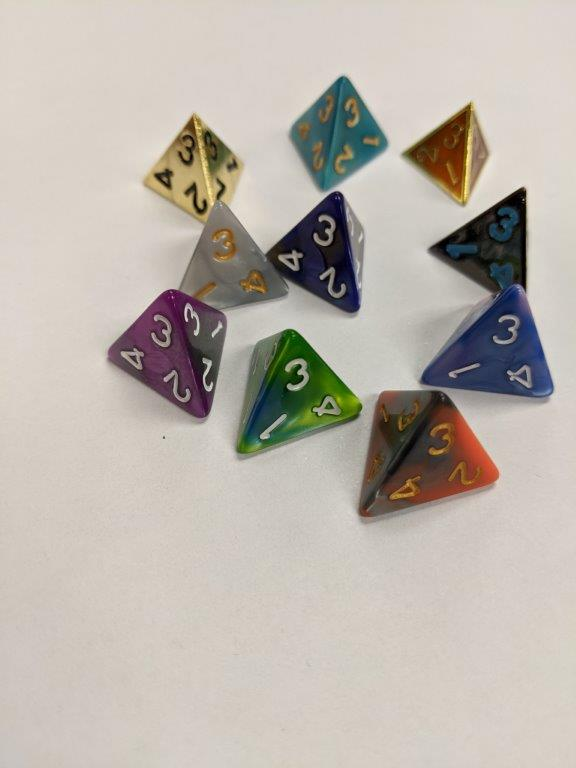d4-3: (357, 382, 495, 523), (414, 283, 557, 405), (229, 330, 364, 455), (105, 286, 228, 421), (265, 189, 372, 319), (179, 200, 288, 312), (427, 181, 533, 295), (141, 111, 240, 230), (292, 71, 390, 191), (399, 98, 493, 207)
